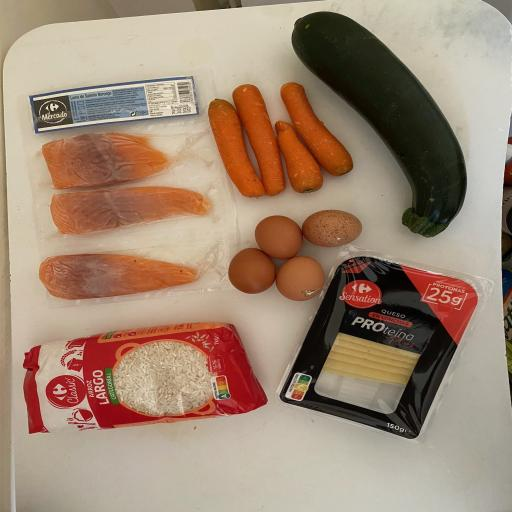carrot: (278, 79, 356, 176), (206, 96, 268, 201), (232, 82, 288, 197), (271, 118, 326, 196)
cheese: (274, 253, 485, 445)
courgette: (290, 7, 470, 241)
egg: (299, 207, 365, 249), (273, 255, 329, 303), (226, 246, 276, 296), (254, 214, 304, 262)
rice: (21, 319, 269, 436)
salmon: (46, 186, 218, 238), (36, 250, 200, 302), (39, 132, 179, 190)
